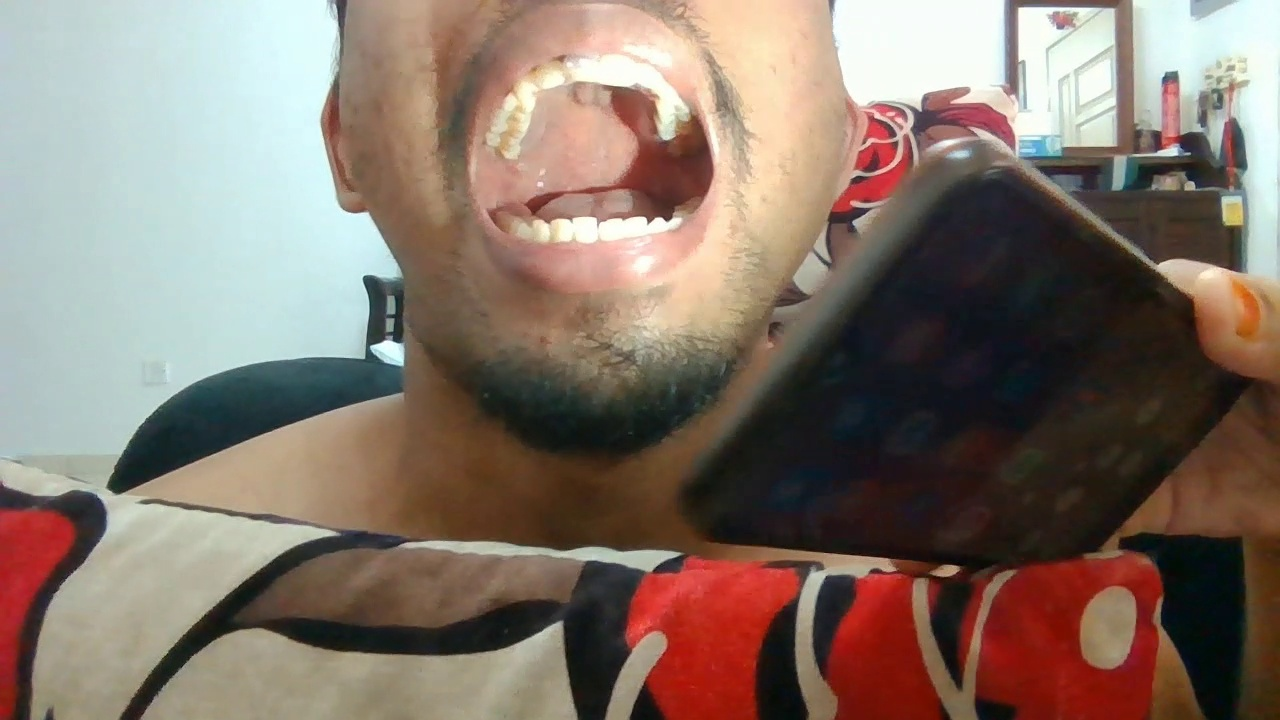1st Molar: (490, 124, 527, 143), (655, 126, 701, 141)
1st Premolar: (656, 96, 689, 113)
2nd Molar: (492, 142, 523, 157)
2nd Premolar: (494, 108, 532, 128), (656, 113, 692, 124)
Canine: (513, 74, 536, 111), (531, 218, 550, 242), (648, 215, 669, 233)
Central Incisor: (600, 53, 637, 88), (563, 53, 600, 82), (598, 217, 625, 243), (573, 216, 598, 243)
Lateral Incisor: (535, 61, 563, 91), (638, 63, 662, 95), (626, 215, 648, 239), (550, 218, 572, 241)
